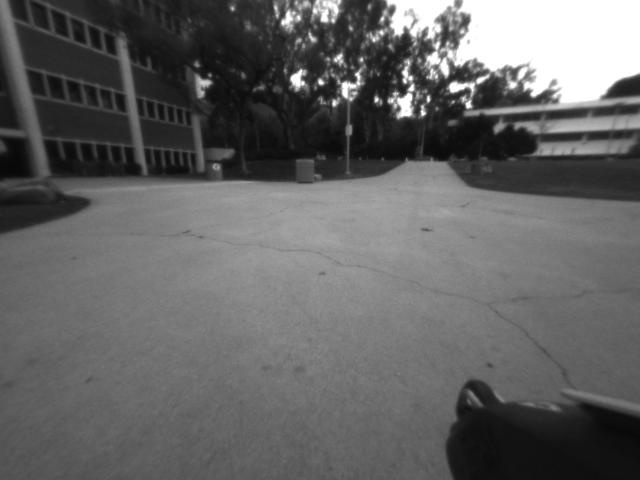trashcan: (291, 157, 317, 186), (206, 158, 226, 182)
